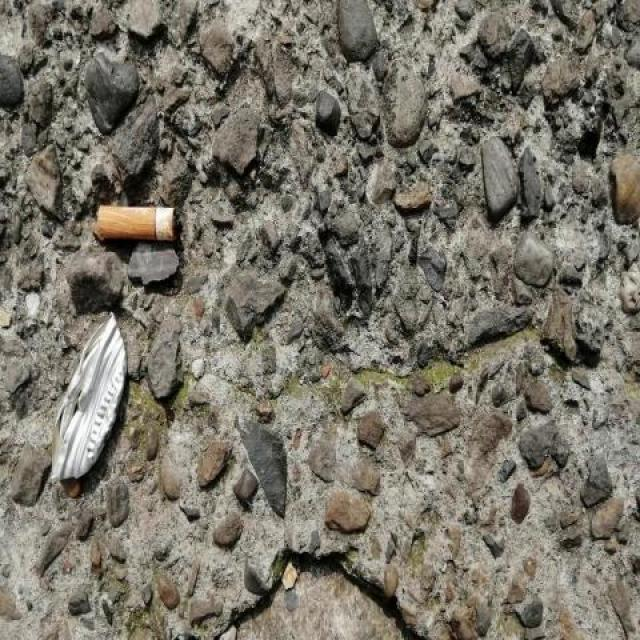non-organic waste: (90, 201, 182, 247)
